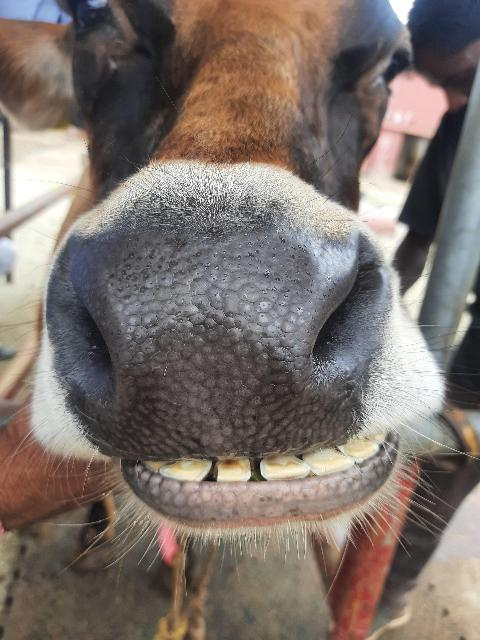Muzzle: (94, 232, 330, 448)
